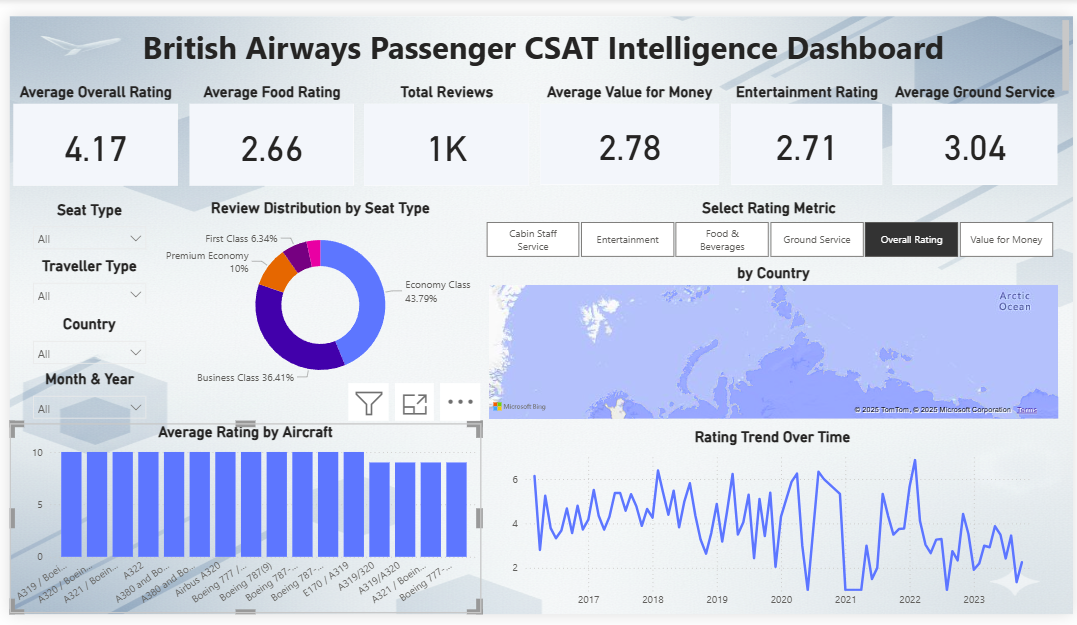

The page's visual inventory and layout, read from the dashboard file:
{"tool":"powerbi","page":{"name":"Page 1","canvas":[1280,720],"ordinal":0},"visuals":[{"type":"cardVisual","title":"Average Overall Rating","fields":{"Data":["Measures (2).Avg_rating"]},"box":[0,79.9,207.8,128.9],"z":0},{"type":"cardVisual","title":"Entertainment Rating","fields":{"Data":["Measures (2).Avg_Entertainment"]},"box":[863.2,80.1,191.7,128.3],"z":1000},{"type":"cardVisual","title":"Average Food Rating","fields":{"Data":["Measures (2).Avg_Food"]},"box":[211.2,79.9,207.8,128.9],"z":2000},{"type":"cardVisual","title":"Average Ground Service ","fields":{"Data":["Measures (2).Avg_Ground_Service"]},"box":[1058.3,80.1,208.3,128.3],"z":3000},{"type":"cardVisual","title":"Average Value for Money","fields":{"Data":["Measures (2).Avg_Value_Money"]},"box":[634.8,80.1,225,128.3],"z":4000},{"type":"cardVisual","title":"Total Reviews","fields":{"Data":["Measures (2).Total_Reviews"]},"box":[422.4,79.9,208.9,128.9],"z":5000},{"type":"textbox","box":[0,0,1280,98.3],"z":6000},{"type":"slicer","title":" Select Rating Metric","fields":{"Values":["Metric.Metric"]},"box":[548.3,220,731.7,70],"z":7000},{"type":"clusteredColumnChart","title":"Average Rating by Aircraft","fields":{"Category":["ba_reviews.aircraft"],"Y":["Metric.Selected_Metric"]},"box":[0,490,568,230],"z":8000},{"type":"lineChart","title":"Rating Trend Over Time","fields":{"Y":["Metric.Selected_Metric"],"Category":["ba_reviews.date.Variation.Date Hierarchy.Year","ba_reviews.date.Variation.Date Hierarchy.Month"]},"box":[600,495,636.7,225],"z":9000},{"type":"filledMap","title":"Country","fields":{"Category":["Countries.Country"]},"box":[571.7,290,693.3,200],"z":10000},{"type":"donutChart","title":"Review Distribution by Seat Type","fields":{"Category":["ba_reviews.seat_type"],"Y":["Measures (2).Total_Reviews"]},"box":[178.8,220,392.5,235],"z":11000},{"type":"slicer","title":"Seat Type","fields":{"Values":["ba_reviews.seat_type"]},"box":[18.8,222.5,156.2,67.5],"z":12000},{"type":"slicer","title":"Traveller Type","fields":{"Values":["ba_reviews.traveller_type"]},"box":[18.8,290,156.2,56.2],"z":13000},{"type":"slicer","title":"Country","fields":{"Values":["ba_reviews.Country"]},"box":[18.8,360,156.2,66.2],"z":14000},{"type":"slicer","title":"Month & Year","fields":{"Values":["ba_reviews.MonthYear"]},"box":[18.3,426.7,156.7,68.3],"z":15000}]}

Visuals, with their boxes on the page's 1280x720 design canvas (x1, y1, x2, y2). These are canvas units, not pixel positions in the 1077x625 screenshot, which may show the page scaled, cropped or inside an application window:
"Average Overall Rating" cardVisual: (0,80,208,209)
"Entertainment Rating" cardVisual: (863,80,1055,208)
"Average Food Rating" cardVisual: (211,80,419,209)
"Average Ground Service " cardVisual: (1058,80,1267,208)
"Average Value for Money" cardVisual: (635,80,860,208)
"Total Reviews" cardVisual: (422,80,631,209)
textbox: (0,0,1280,98)
" Select Rating Metric" slicer: (548,220,1280,290)
"Average Rating by Aircraft" clusteredColumnChart: (0,490,568,720)
"Rating Trend Over Time" lineChart: (600,495,1237,720)
"Country" filledMap: (572,290,1265,490)
"Review Distribution by Seat Type" donutChart: (179,220,571,455)
"Seat Type" slicer: (19,222,175,290)
"Traveller Type" slicer: (19,290,175,346)
"Country" slicer: (19,360,175,426)
"Month & Year" slicer: (18,427,175,495)
